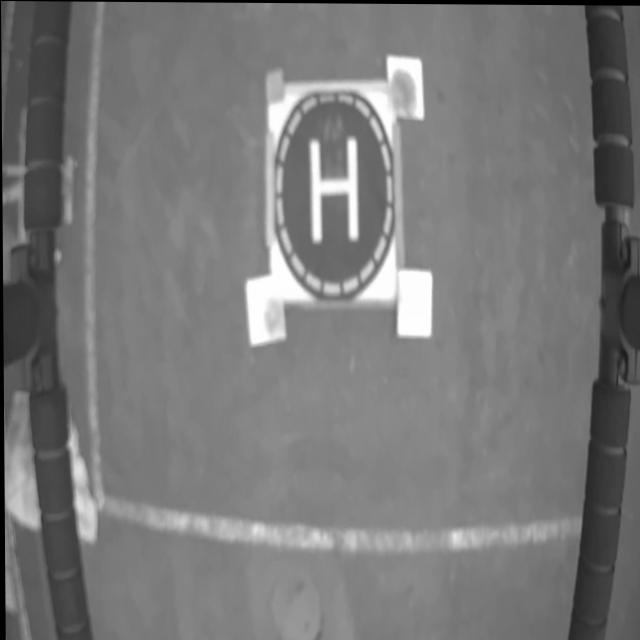Helipad: (308, 135, 359, 246)
